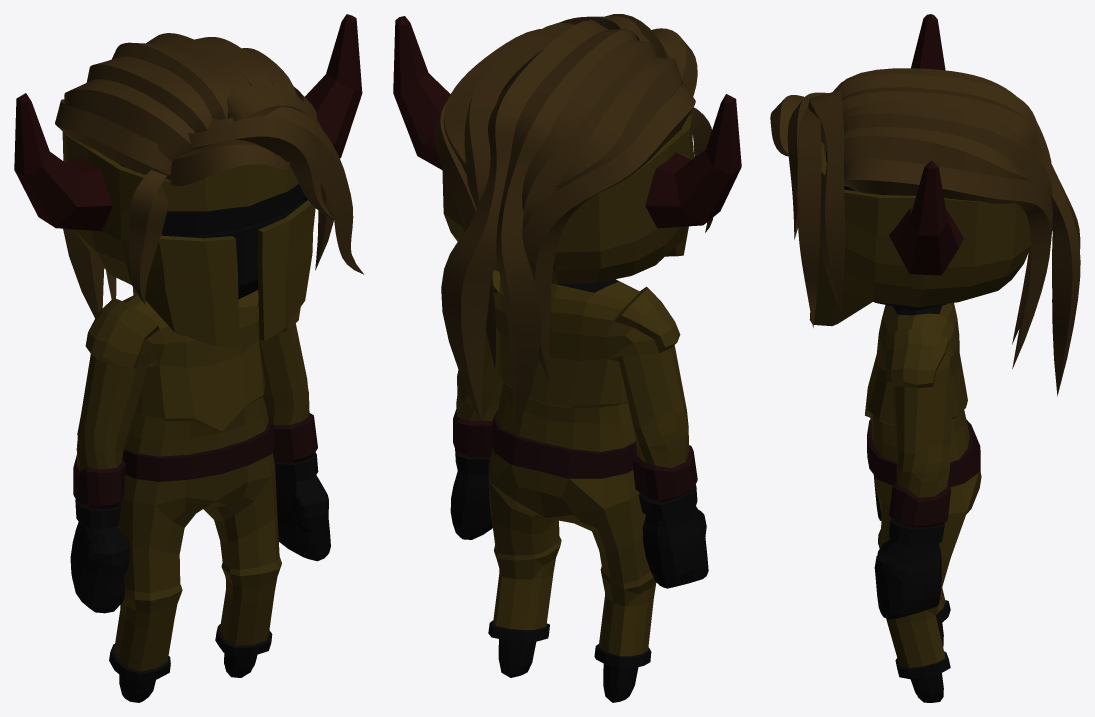
File: Knight_Golden_Female.obj
The picture shows the model from 3 angles, left to right: view 1: azimuth 30°, elevation 25°; view 2: azimuth 150°, elevation 25°; view 3: azimuth 270°, elevation 25°; orthographic projection. The views are drawn at different scales.
Parts seen in each view (by area): view 1: Body_Cube.004; view 2: Body_Cube.004; view 3: Body_Cube.004.
Boxes of the visible parts, x1=… form: Body_Cube.004: x1=14, y1=14, x2=364, y2=702; Body_Cube.004: x1=393, y1=14, x2=741, y2=702; Body_Cube.004: x1=770, y1=14, x2=1080, y2=702.
Bounding box in the file's own units: 1.76 × 3.18 × 1.5.
